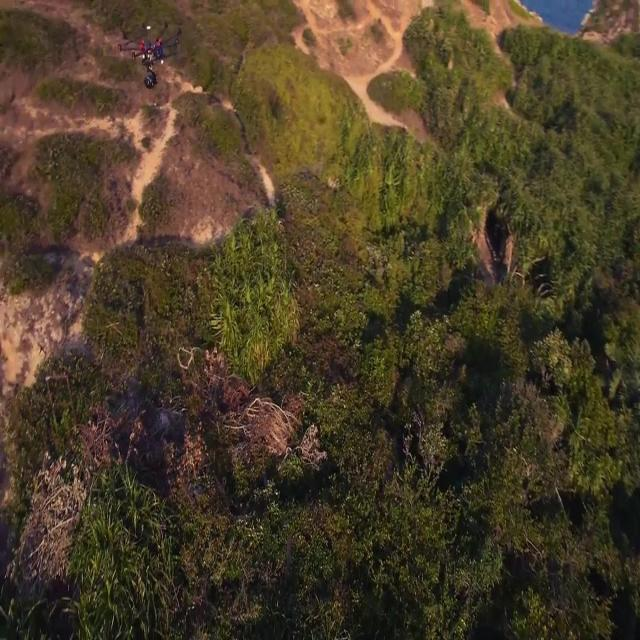drone: (115, 15, 188, 92)
